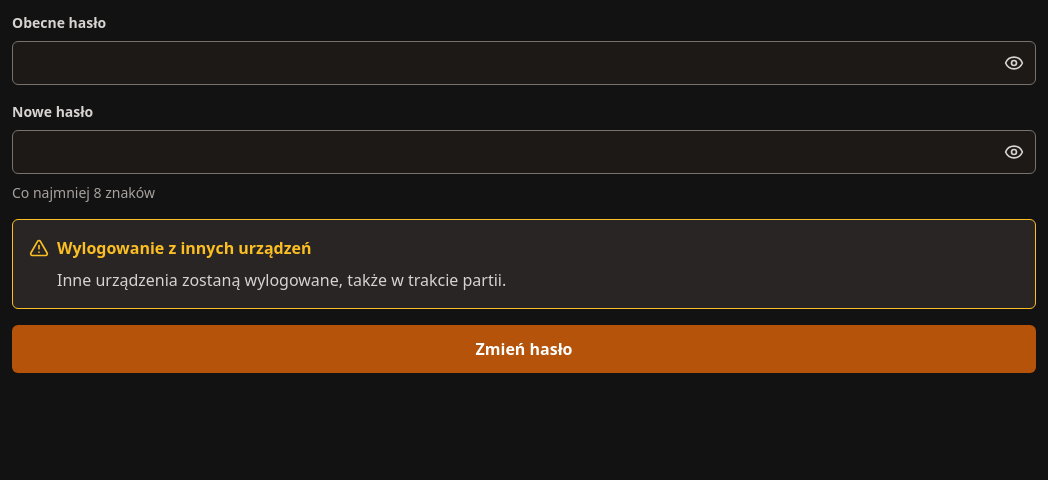
Test: ChangePasswordForm › changes the password, clears and hides the fields and shows the success
Click the 1st button named "Pokaż hasło": (1014,63) 992,41 -> 1036,85
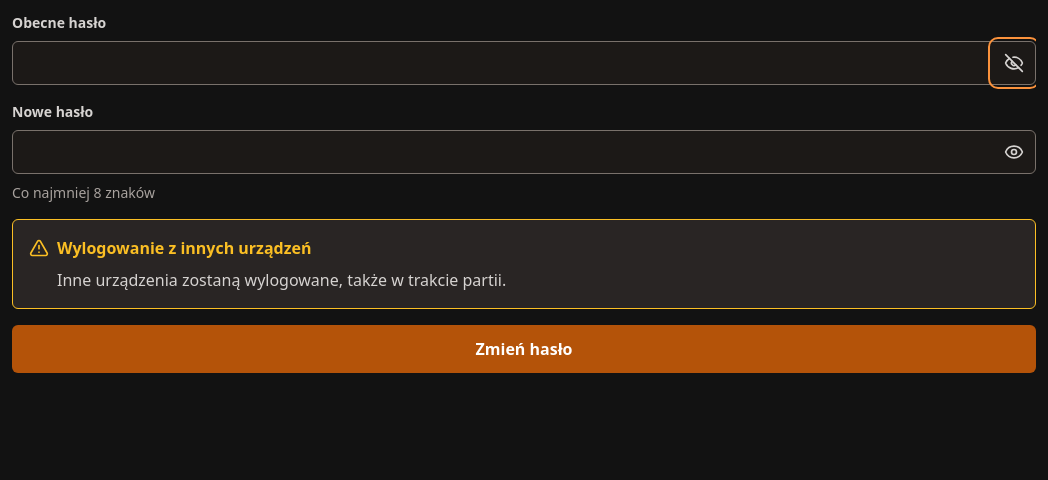
In the field labelled "Obecne hasło": (524,63) 12,41 -> 1036,85, type "secret123"
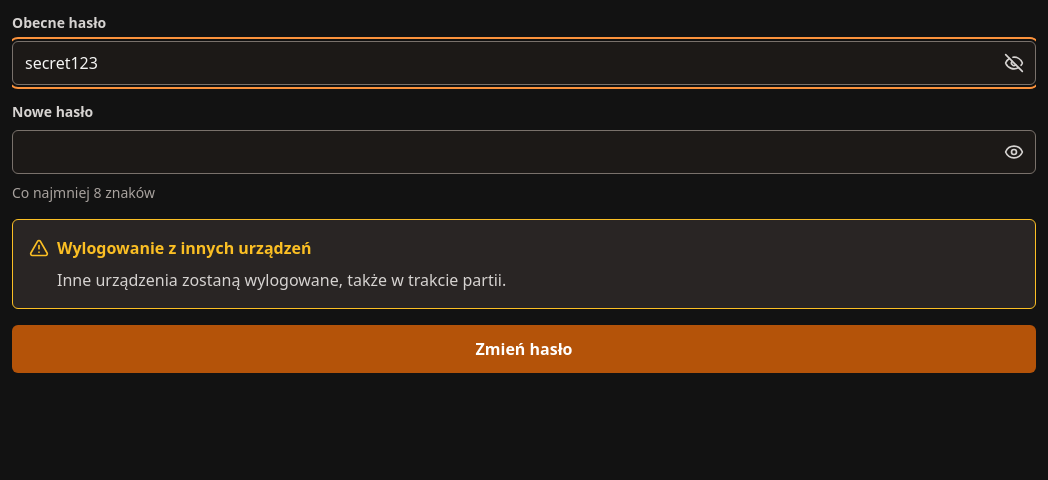
In the password field labelled "Nowe hasło": (524,152) 12,130 -> 1036,174, type "brand-new-pass1"
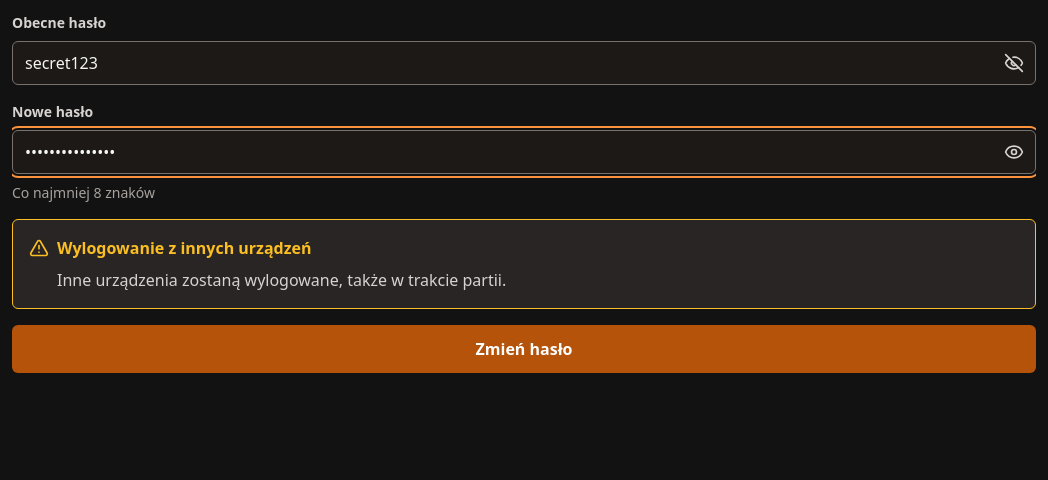
Click the button "Zmień hasło": (524,349) 12,325 -> 1036,373
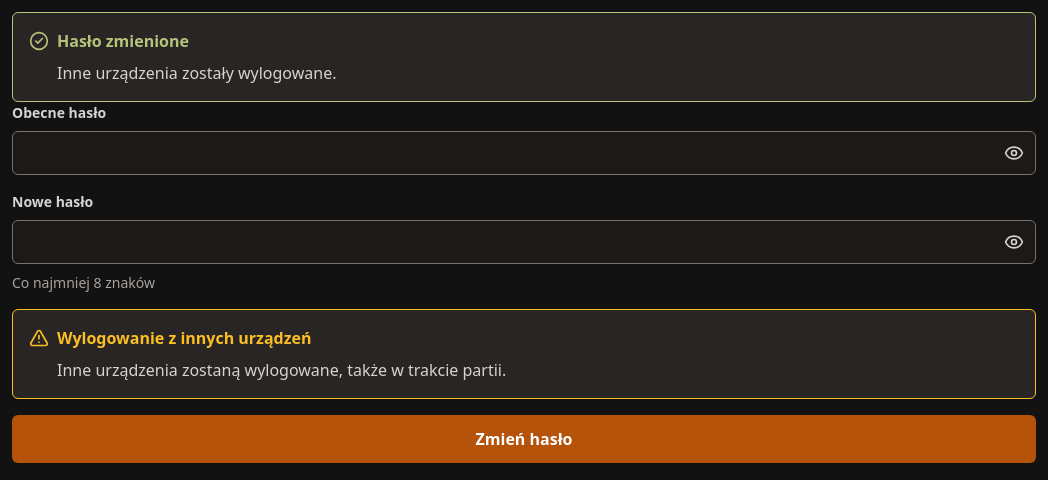
expect the element with test id "change-password-success" shows "Inne urządzenia zostały wylogowane.": met, box 57,62 -> 336,84
expect the password field labelled "Obecne hasło" is empty: met, box 12,131 -> 1036,175
expect the password field labelled "Nowe hasło" is empty: met, box 12,220 -> 1036,264
